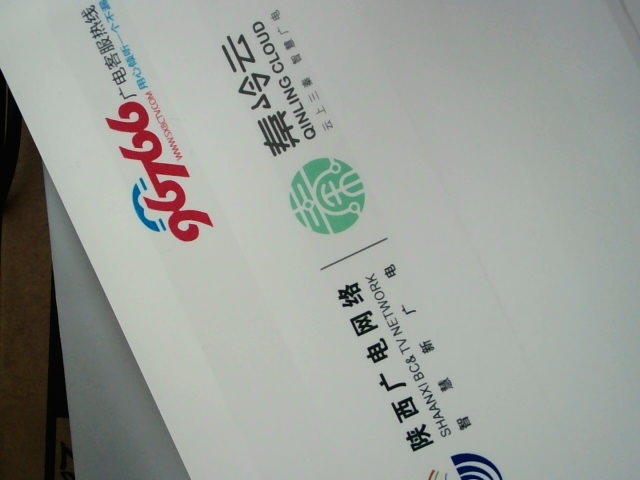AE_QinLing: (201, 1, 399, 245)
